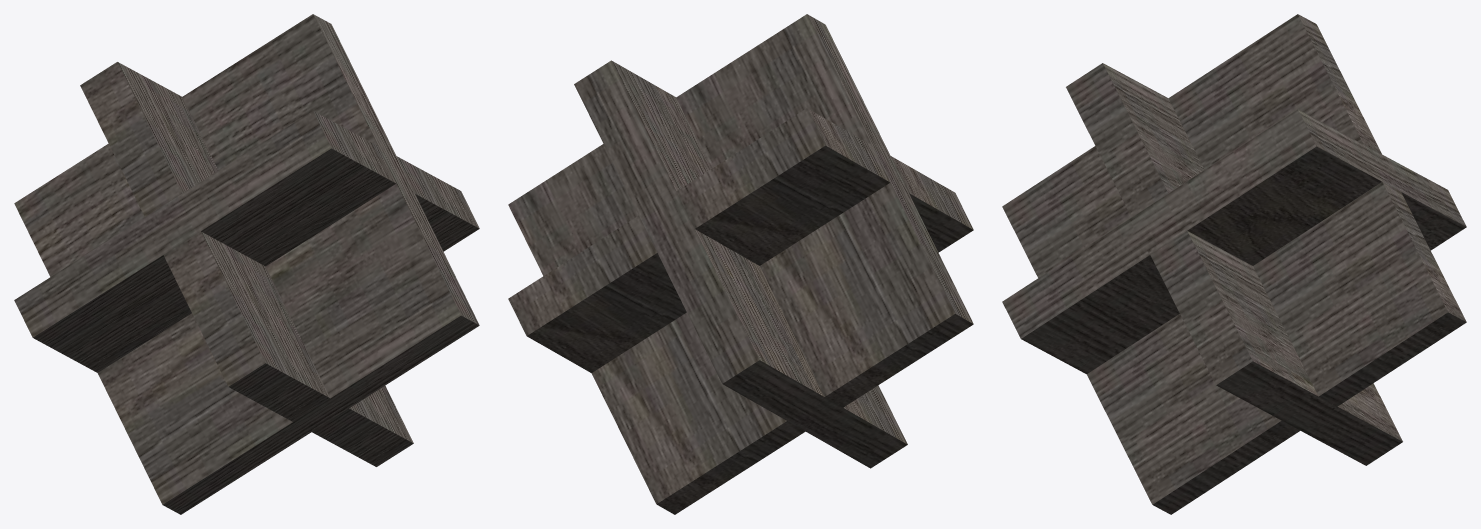
Rendered from decor_knot.glb.
3 views of the same model, side by side, from view 1: azimuth 30°, elevation 25°; view 2: azimuth 150°, elevation 25°; view 3: azimuth 270°, elevation 25° (orthographic).
Parts seen in each view (by area): view 1: Geom3D (×6); view 2: Geom3D (×6); view 3: Geom3D (×7).
Boxes of the visible parts, left/top/right/bottom form: Geom3D (×6): left=14, top=14, right=479, bottom=514; Geom3D (×6): left=508, top=14, right=973, bottom=514; Geom3D (×7): left=1002, top=14, right=1466, bottom=514.
Size of the model in its own units: 0.2155 by 0.1874 by 0.1945.
1 material, 1 textured.
